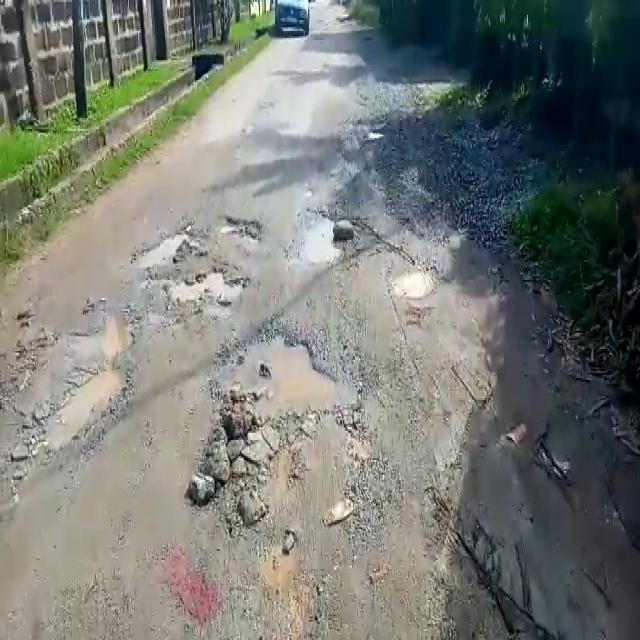Pothole: (206, 328, 366, 430), (41, 364, 121, 452), (166, 266, 246, 311), (137, 226, 189, 274), (297, 209, 344, 261), (98, 308, 133, 362), (394, 266, 434, 301)
